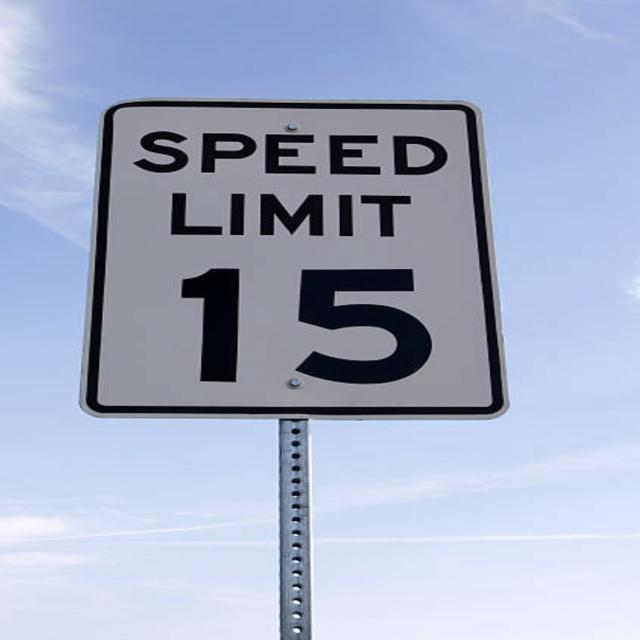speedLimit15: (93, 109, 478, 409)
